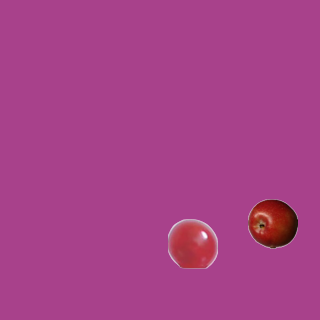Apple Braeburn: (247, 198, 297, 248)
Redcurrant: (167, 218, 217, 268)
